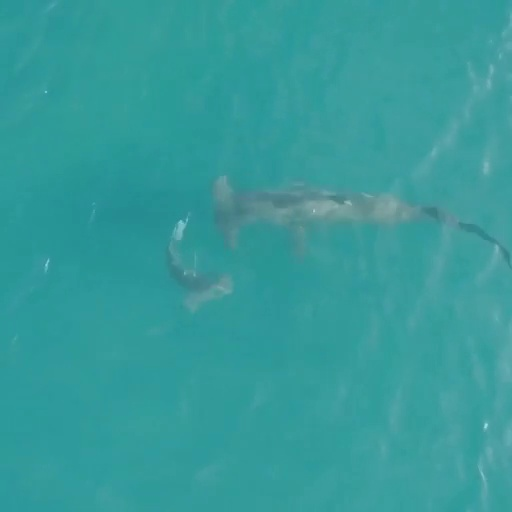shark: (211, 174, 504, 260)
